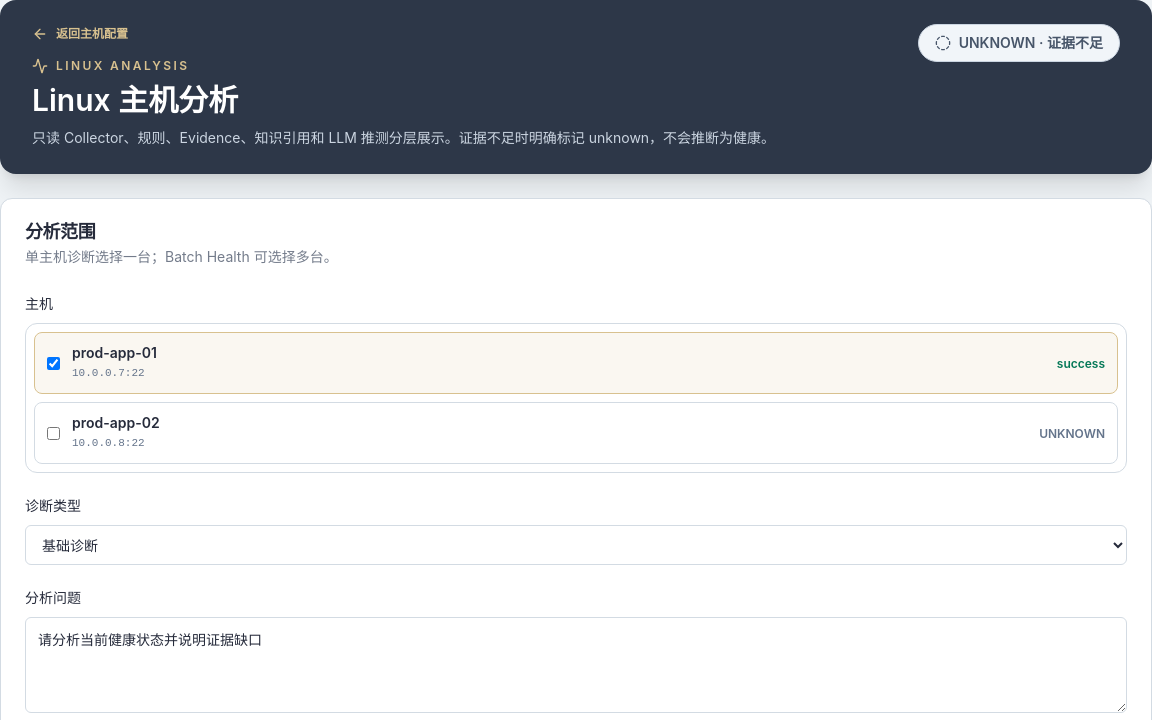
Test case: LinuxAnalysisPage › includes a missing host in the batch failed count
Select "Batch Health" in the dropdown named "诊断类型" at (576, 545), box [25,525,1127,565]
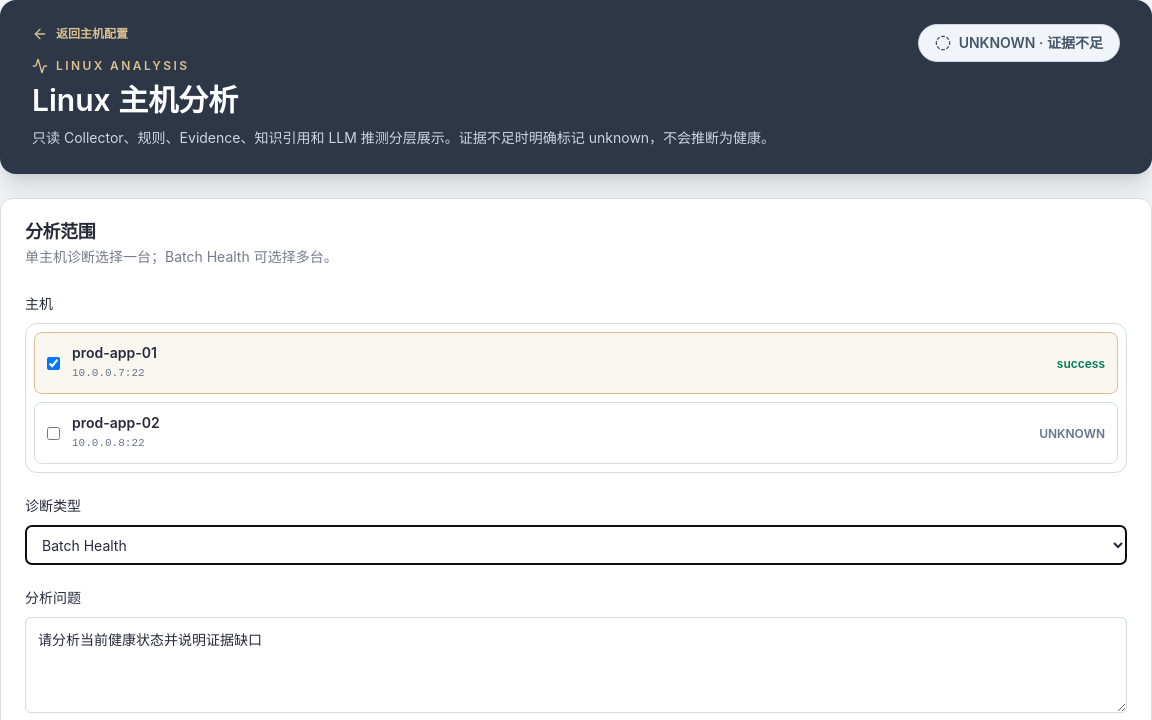
Click the checkbox labelled "prod-app-02 10.0.0.8:22 UNKNOWN" at (54, 433), box [47,426,60,440]
(page scrolled)
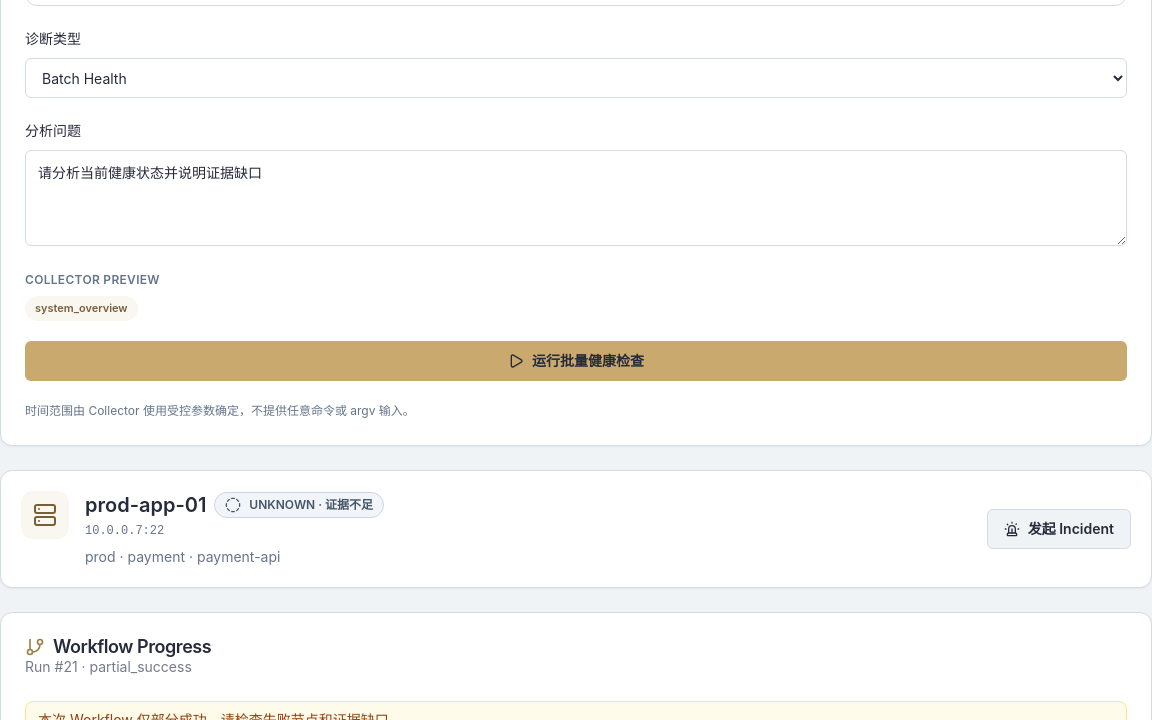
Click the button "运行批量健康检查" at (576, 360), box [25,340,1127,380]
(page scrolled)
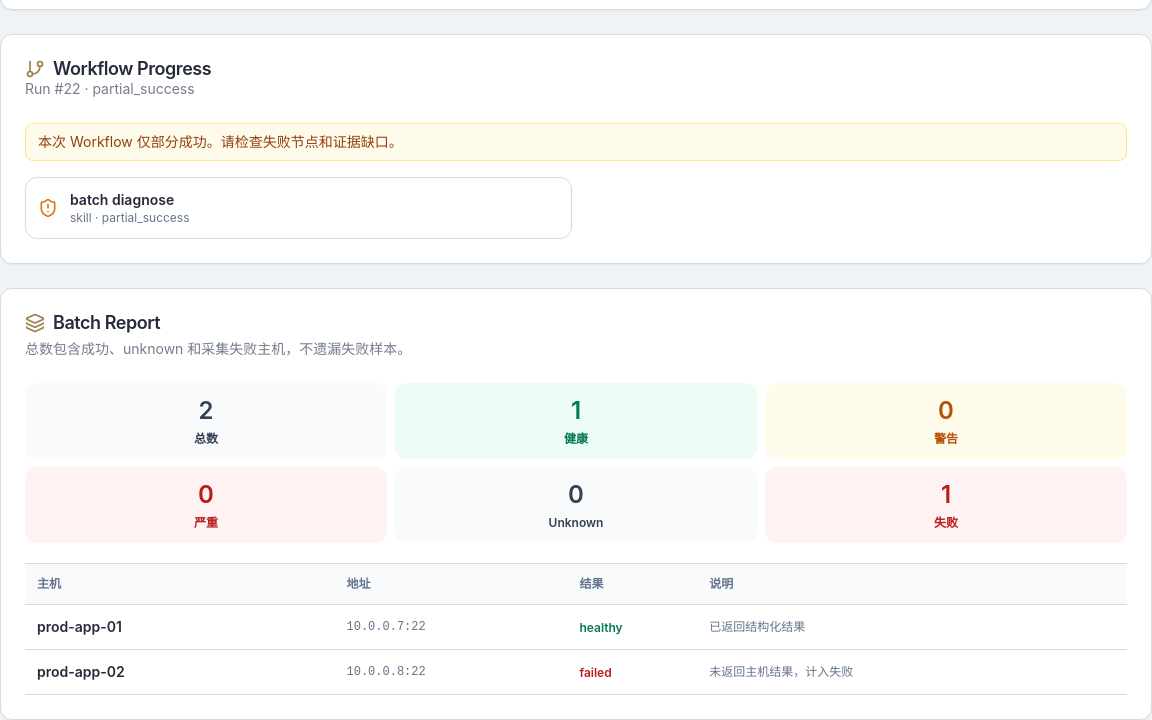
Expected: the text "未返回主机结果，计入失败" is shown, [708,649,1127,694]
Expected: the 2nd text "1" is shown, [941,480,951,508]
